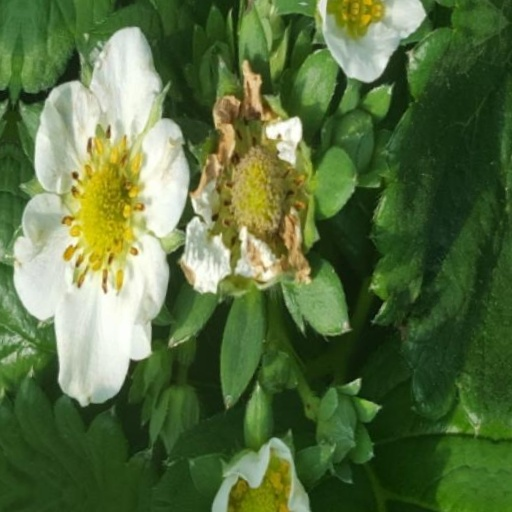Blossom Blight: (55, 201, 146, 376), (208, 245, 303, 398)
